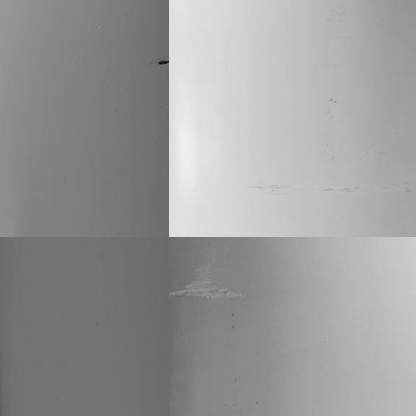kongdong: (157, 57, 166, 70)
sunshang: (171, 257, 243, 306)
